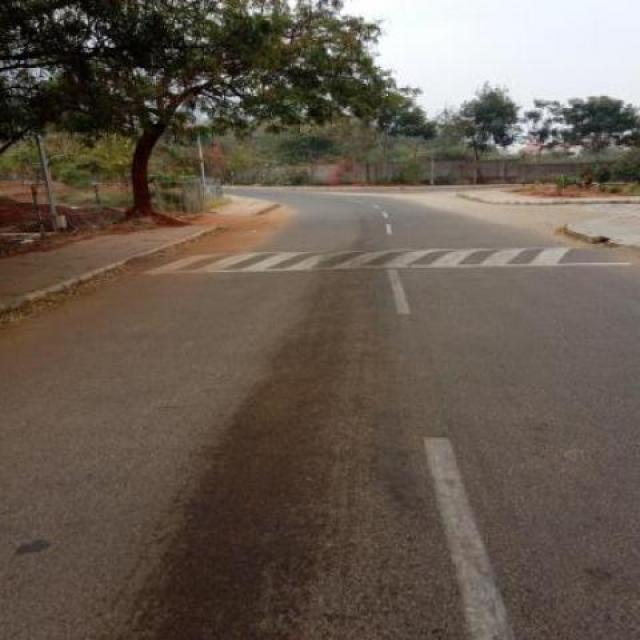Pothole: (576, 561, 615, 586)
Speed Bump: (137, 242, 639, 278)
